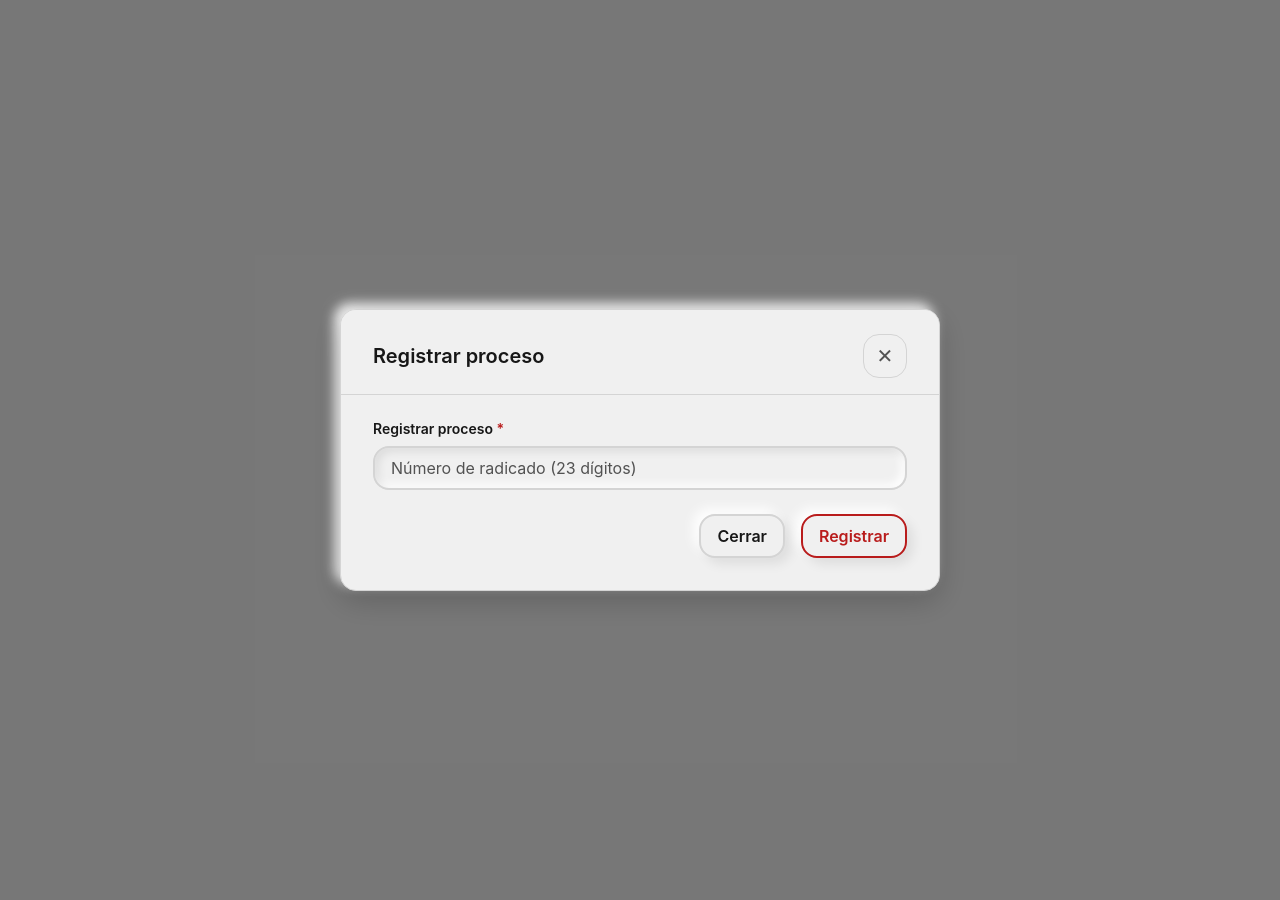
Test: ModalRegistro › muestra mensaje de éxito tras registro correcto
Type "11001310300120230001200" into the field at (640, 468), box [373,446,907,490]
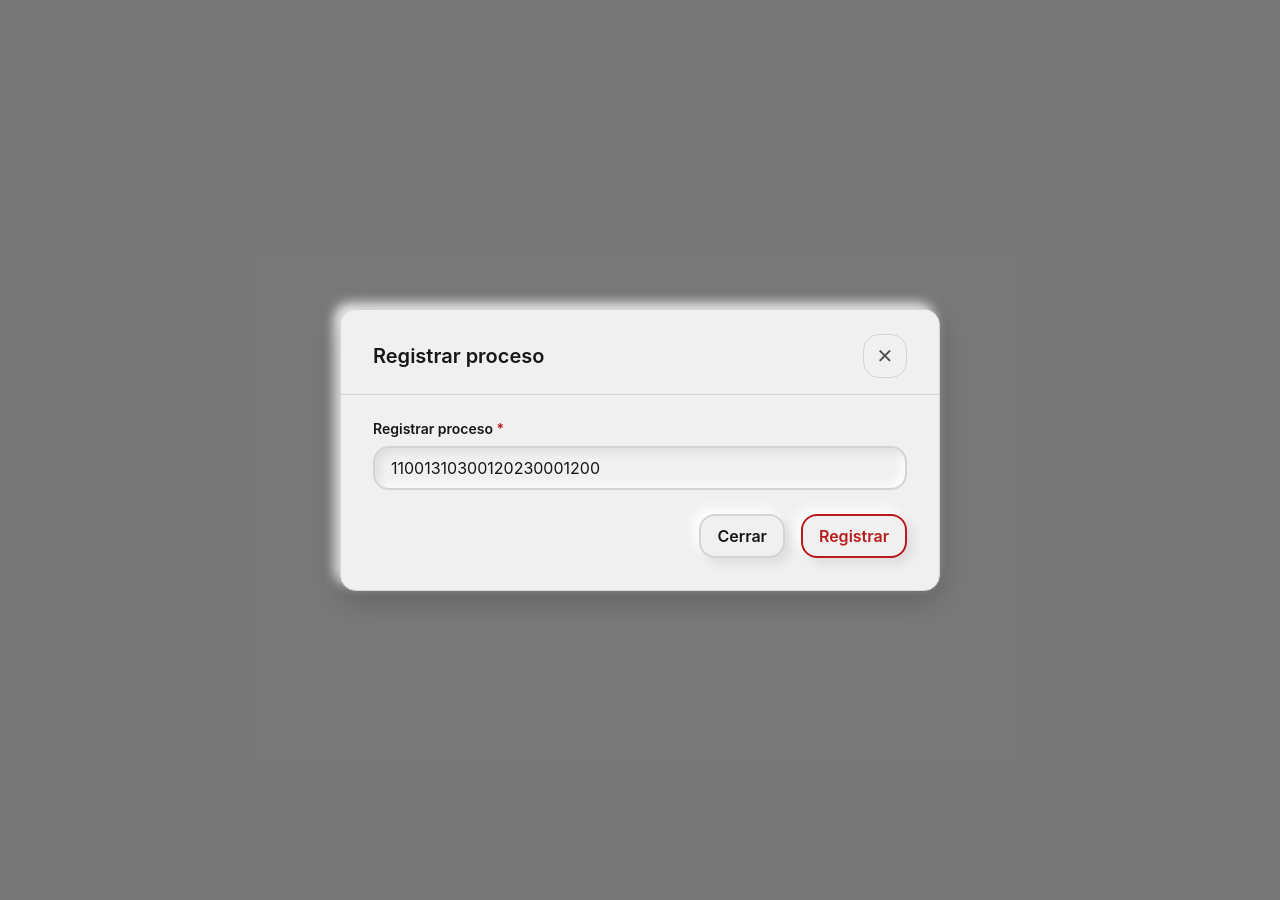
Submit the form, box [373,419,907,558]
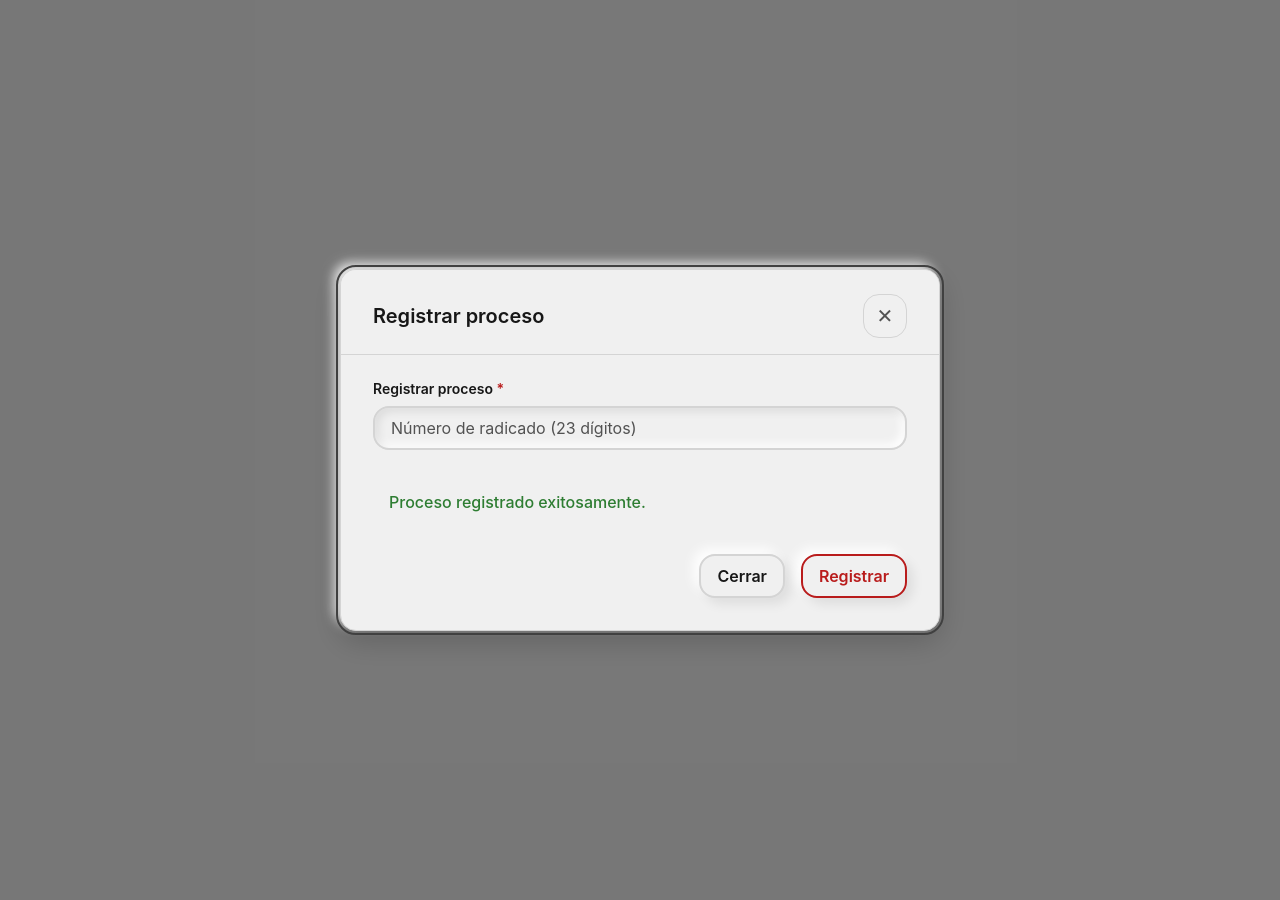
Expected: the message "Proceso registrado exitosamente." is shown, [389,492,646,512]
